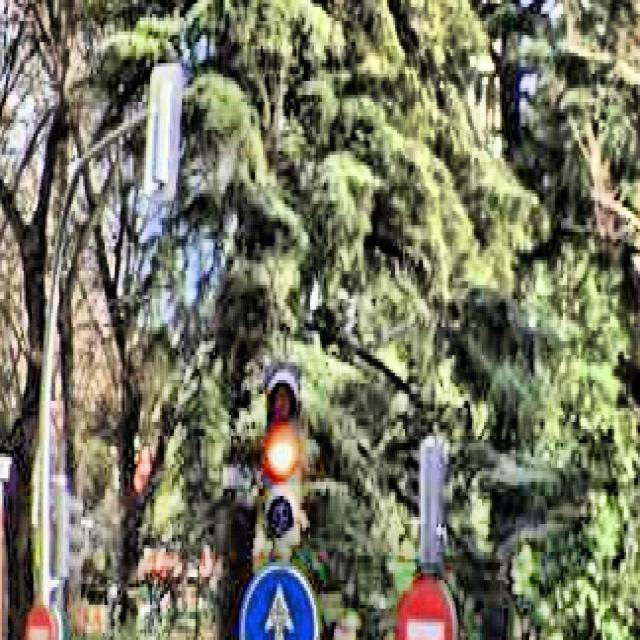yellow: (265, 371, 303, 552)
